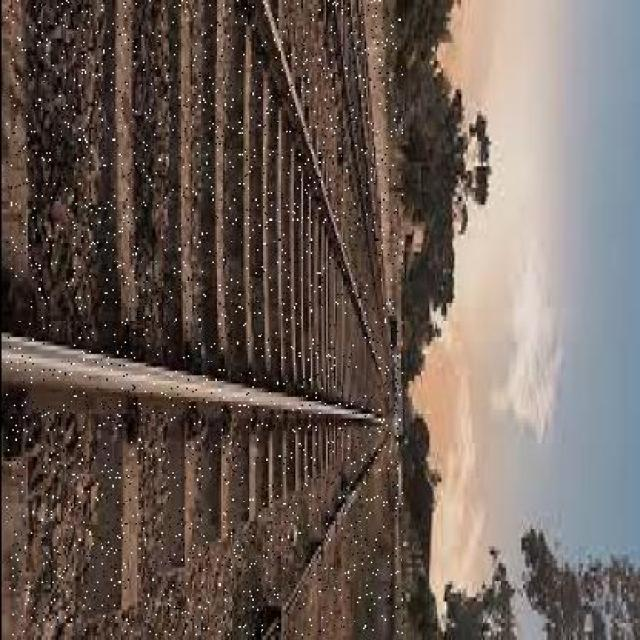rail: (6, 2, 401, 636)
